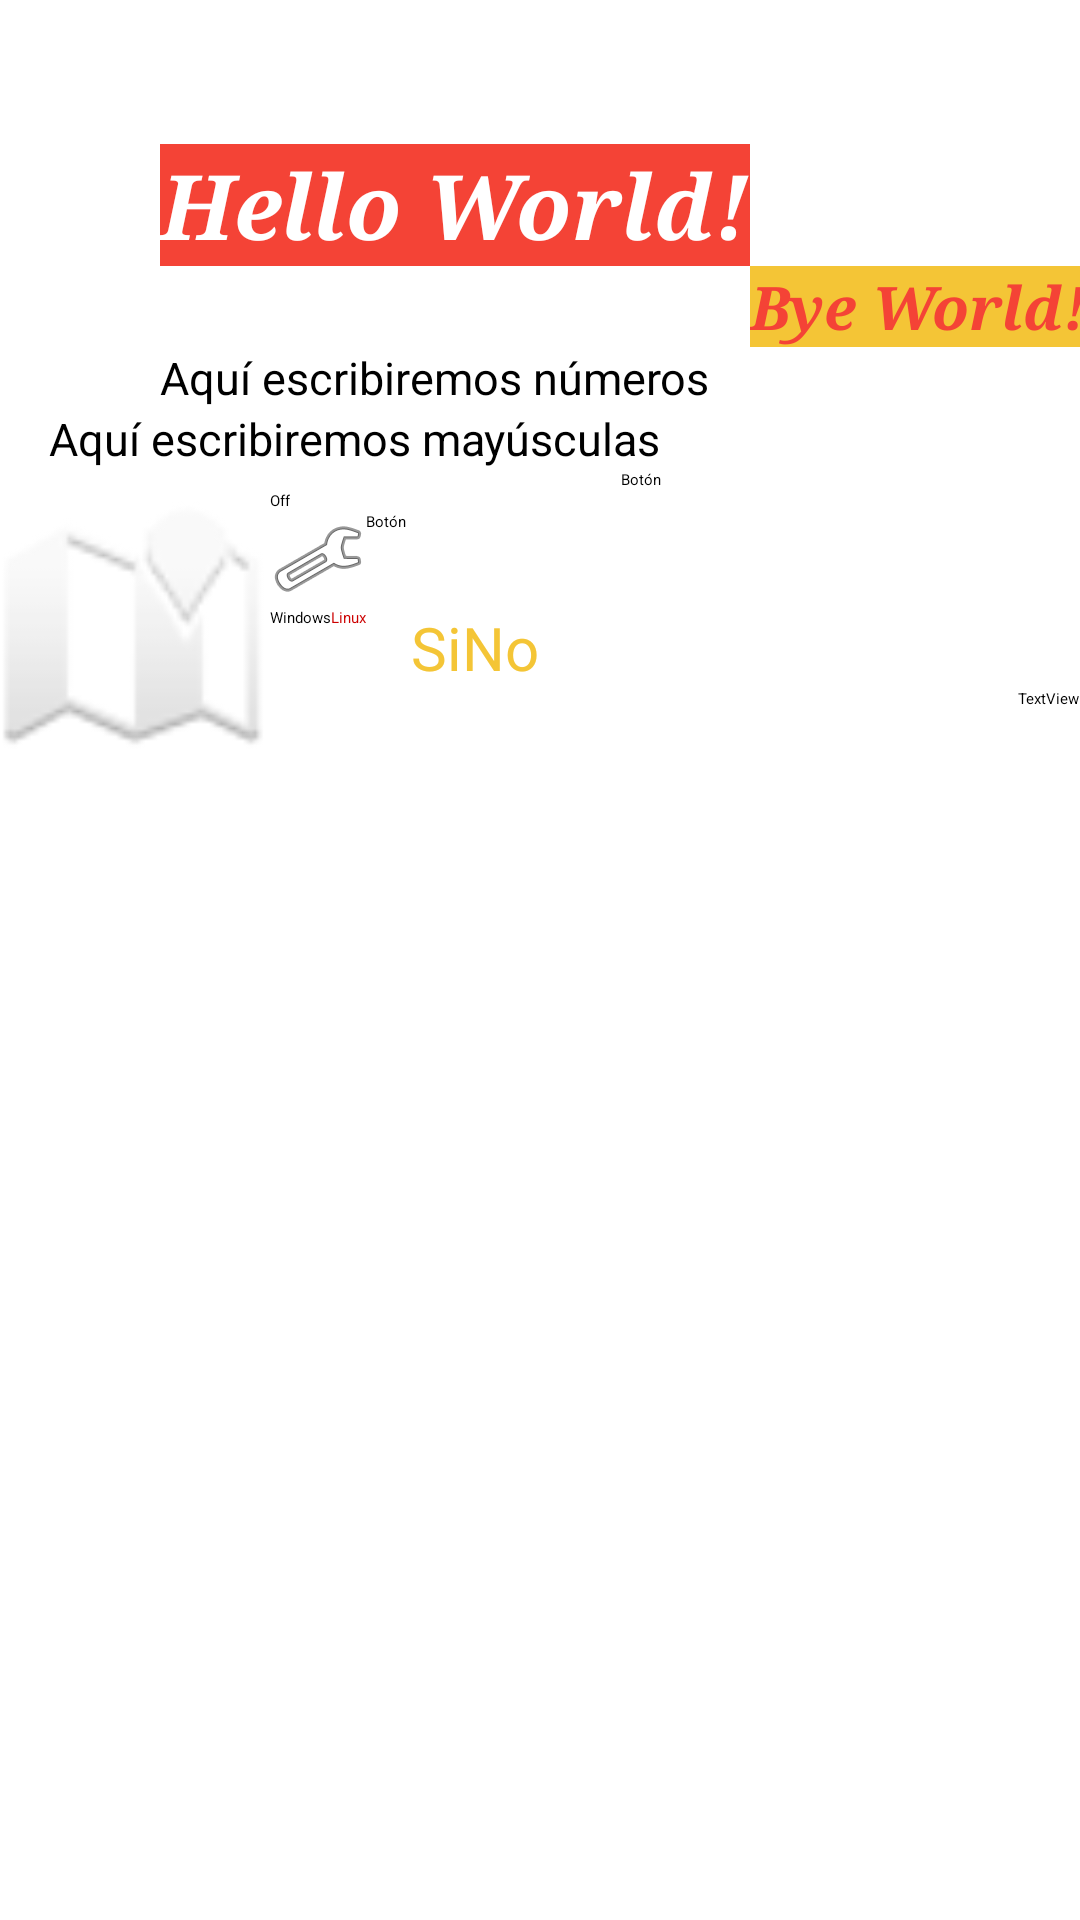

Icons on this 1080px×1920px Android screen, each with its box as (x1, y1, x2, y2):
map: (5, 537, 259, 742)
